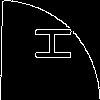H: (25, 25, 72, 62)
